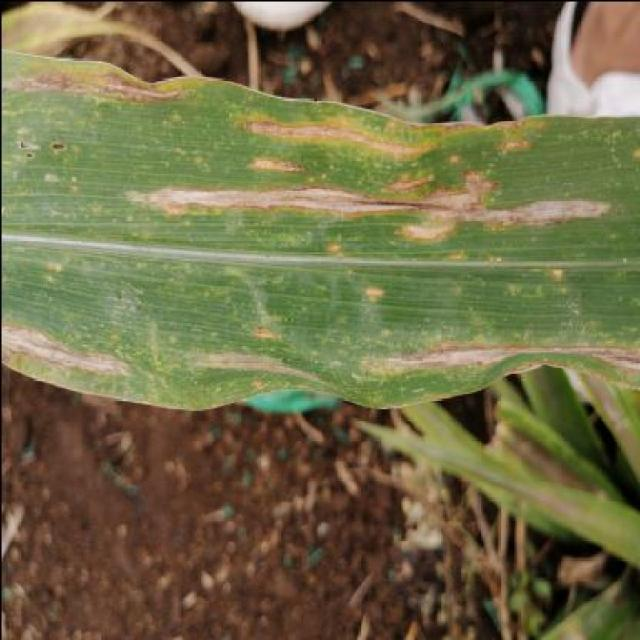Corn_Leaf_Blight: (0, 45, 640, 406)
